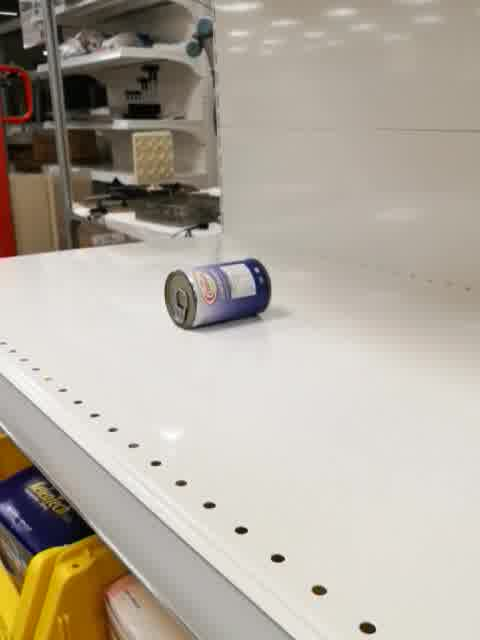sardine: (163, 258, 273, 331)
